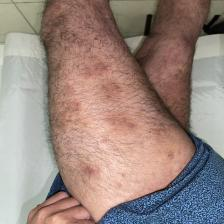DA: (48, 56, 140, 180)
